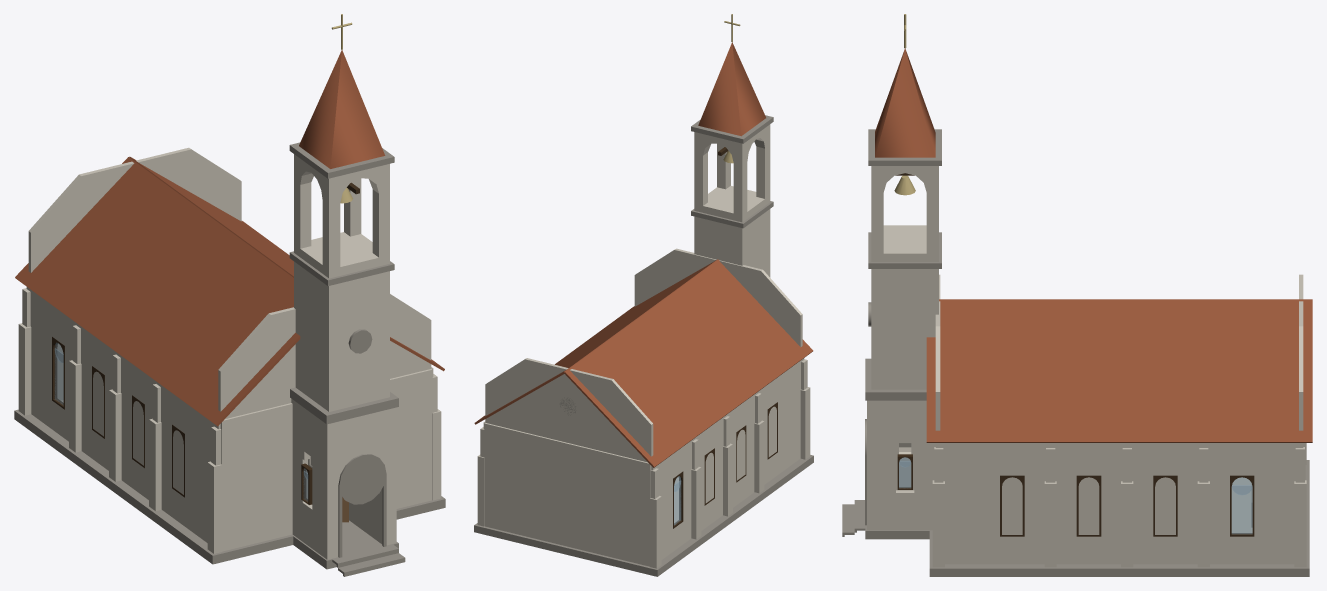
Rendered from small-vietnamese-catholic-mission.glb.
3 views of the same model, side by side, from view 1: azimuth 30°, elevation 25°; view 2: azimuth 150°, elevation 25°; view 3: azimuth 270°, elevation 25° (orthographic). The views are drawn at different scales.
Visible parts, largest first — view 1: Mesh_RoofA, Mesh_ChurchRoom_WallRight_R, Mesh_TowerMid, Mesh_TowerBase, Mesh_ChurchRoom_WallFront_R, Mesh_Belfry, Mesh_GableFront, Mesh_GableBack, Mesh_Spire, Mesh_ChurchRoom_WallFront_L, Mesh_BaseFoundation, Mesh_ChurchRoom_WallRight_L (+14 smaller); view 2: Mesh_RoofA, Mesh_ChurchRoom_WallBack, Mesh_GableBack, Mesh_ChurchRoom_WallRight_R, Mesh_Belfry, Mesh_GableFront, Mesh_BaseFoundation, Mesh_Spire, Mesh_TowerMid, Mesh_RoofB, Mesh_ChurchRoom_WallRight_L, Mesh_ButtressBot_0_1 (+7 smaller); view 3: Mesh_RoofB, Mesh_ChurchRoom_WallLeft_R, Mesh_TowerBase, Mesh_TowerMid, Mesh_BaseFoundation, Mesh_ChurchRoom_WallLeft_L, Mesh_Belfry, Mesh_Spire, Mesh_ButtressBot_4_-1, Mesh_ButtressBot_0_-1, Mesh_ButtressBot_1_-1, Mesh_ButtressBot_2_-1 (+11 smaller).
Part boxes in pixels (x1=…): Mesh_RoofA: x1=15, y1=157, x2=300, y2=426; Mesh_ChurchRoom_WallRight_R: x1=65, y1=315, x2=220, y2=542; Mesh_TowerMid: x1=294, y1=261, x2=389, y2=411; Mesh_TowerBase: x1=291, y1=399, x2=396, y2=559; Mesh_ChurchRoom_WallFront_R: x1=220, y1=403, x2=292, y2=551; Mesh_Belfry: x1=294, y1=154, x2=389, y2=278; Mesh_GableFront: x1=218, y1=294, x2=431, y2=418; Mesh_GableBack: x1=28, y1=147, x2=241, y2=272; Mesh_Spire: x1=299, y1=50, x2=385, y2=168; Mesh_ChurchRoom_WallFront_L: x1=349, y1=369, x2=432, y2=519; Mesh_BaseFoundation: x1=14, y1=409, x2=445, y2=564; Mesh_ChurchRoom_WallRight_L: x1=26, y1=287, x2=51, y2=428; Mesh_RoofA: x1=564, y1=259, x2=813, y2=467; Mesh_ChurchRoom_WallBack: x1=484, y1=423, x2=651, y2=566; Mesh_GableBack: x1=485, y1=358, x2=653, y2=462; Mesh_ChurchRoom_WallRight_R: x1=683, y1=358, x2=804, y2=543; Mesh_Belfry: x1=694, y1=124, x2=770, y2=222; Mesh_GableFront: x1=634, y1=248, x2=802, y2=346; Mesh_BaseFoundation: x1=474, y1=455, x2=813, y2=576; Mesh_Spire: x1=698, y1=42, x2=765, y2=136; Mesh_TowerMid: x1=694, y1=209, x2=770, y2=277; Mesh_RoofB: x1=474, y1=259, x2=717, y2=424; Mesh_ChurchRoom_WallRight_L: x1=651, y1=454, x2=672, y2=559; Mesh_ButtressBot_0_1: x1=650, y1=496, x2=661, y2=568; Mesh_RoofB: x1=926, y1=300, x2=1312, y2=442; Mesh_ChurchRoom_WallLeft_R: x1=935, y1=443, x2=1229, y2=564; Mesh_TowerBase: x1=867, y1=400, x2=933, y2=530; Mesh_TowerMid: x1=871, y1=269, x2=938, y2=389; Mesh_BaseFoundation: x1=929, y1=460, x2=1309, y2=576; Mesh_ChurchRoom_WallLeft_L: x1=1254, y1=443, x2=1303, y2=564; Mesh_Belfry: x1=871, y1=166, x2=938, y2=261; Mesh_Spire: x1=875, y1=48, x2=935, y2=157; Mesh_ButtressBot_4_-1: x1=932, y1=480, x2=944, y2=567; Mesh_ButtressBot_0_-1: x1=1294, y1=480, x2=1306, y2=567; Mesh_ButtressBot_1_-1: x1=1197, y1=481, x2=1209, y2=567; Mesh_ButtressBot_2_-1: x1=1121, y1=481, x2=1133, y2=567.
Bounding box in the file's own units: 8.4 × 18.3 × 15.35.
4 materials, 4 textured.
